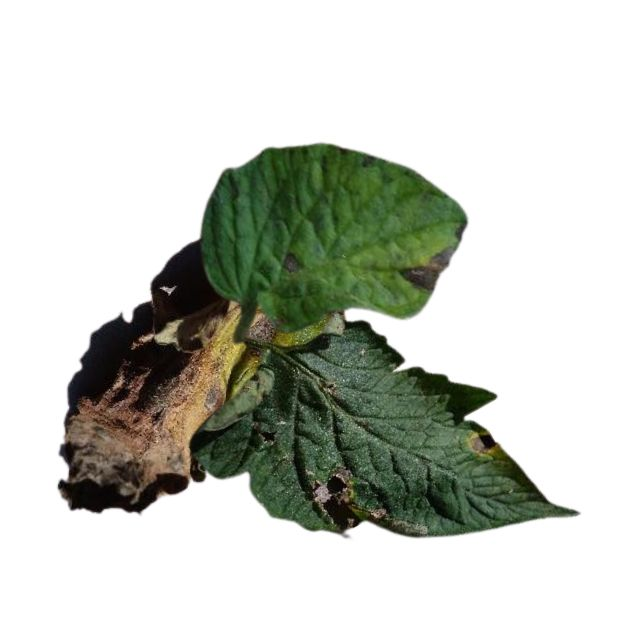Early_blight: (52, 302, 276, 514), (311, 466, 367, 532), (392, 244, 456, 294), (466, 429, 496, 457), (282, 249, 300, 273)
